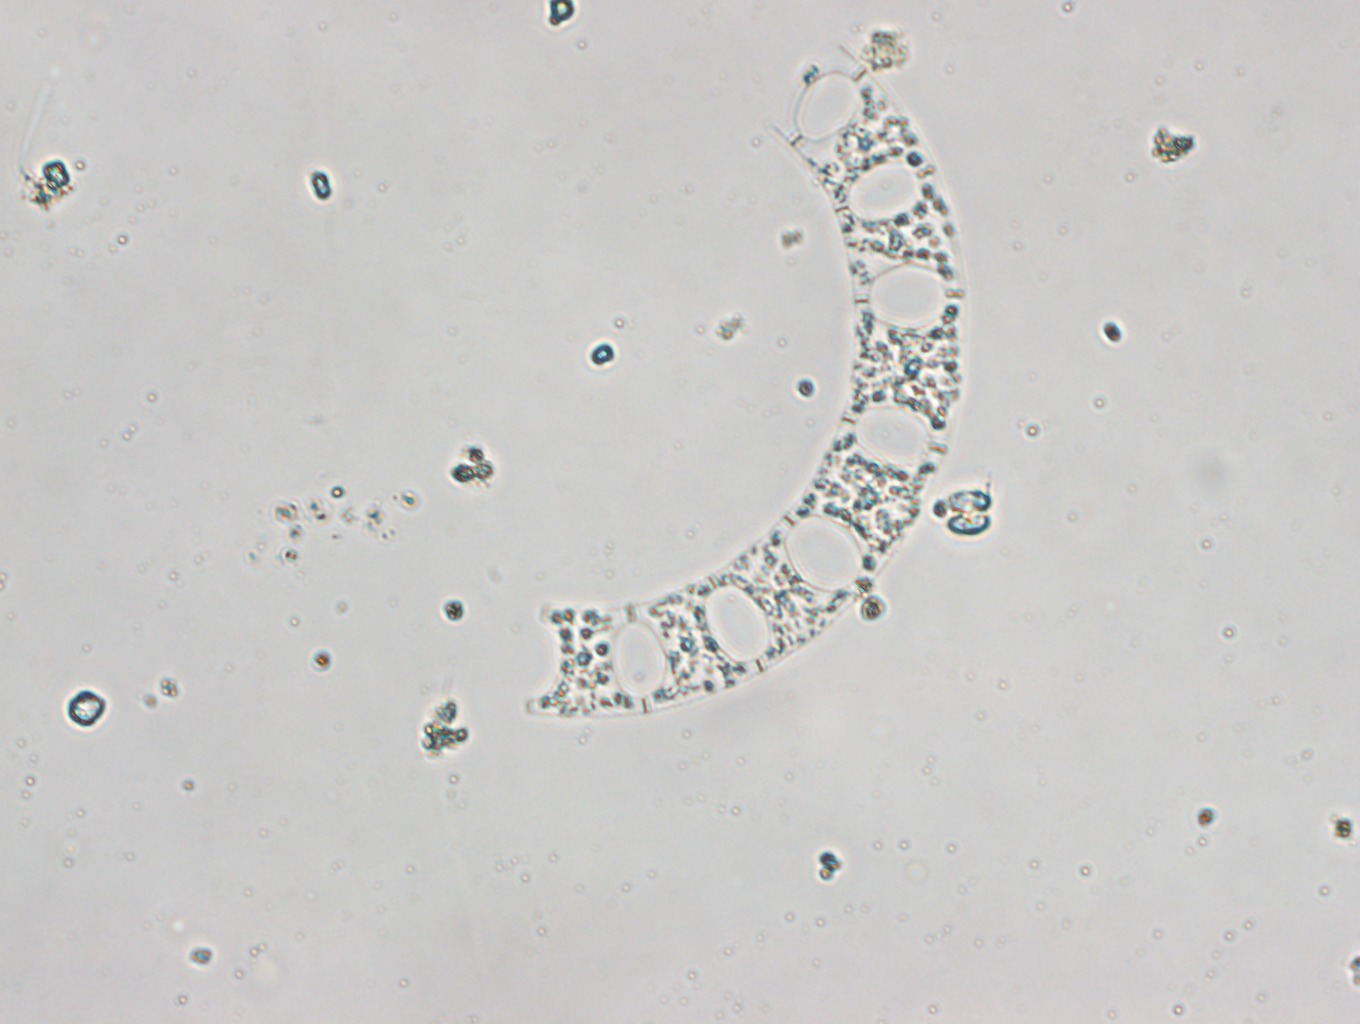eucampia: (520, 43, 970, 720)
